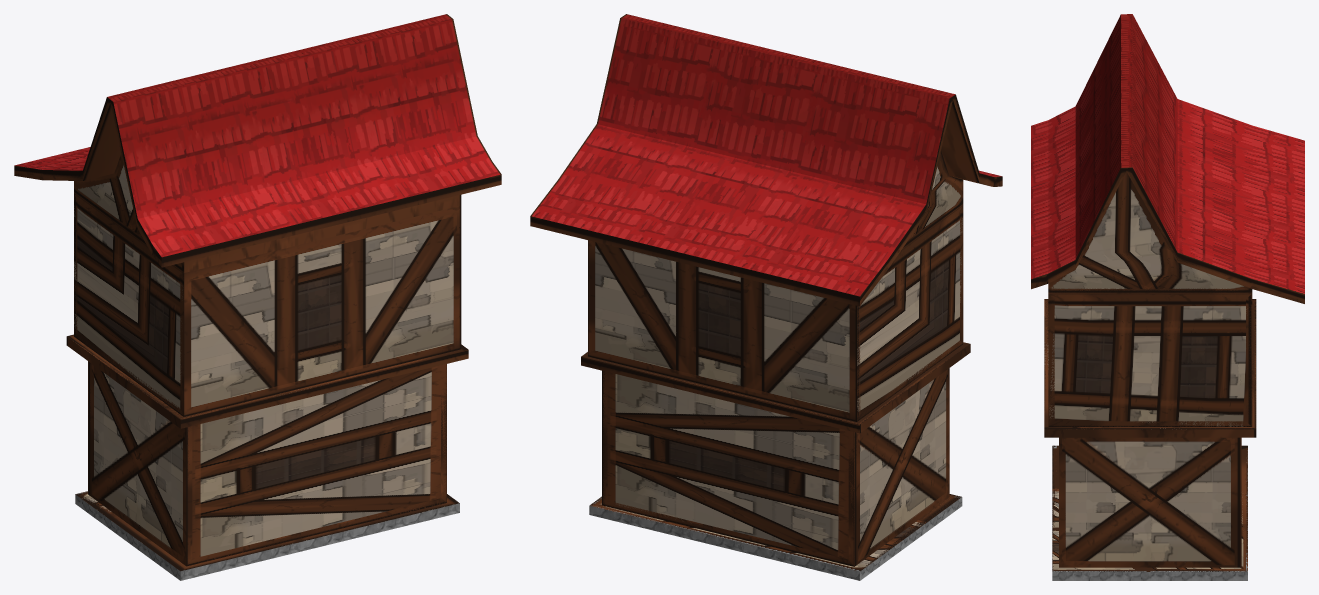
The model's file is House Base4_C.fbx.
3 views of the same model, side by side, from view 1: azimuth 30°, elevation 25°; view 2: azimuth 150°, elevation 25°; view 3: azimuth 270°, elevation 25° (orthographic). The views are drawn at different scales.
Parts seen in each view (by area): view 1: House Base 4c_col, House Base 4c; view 2: House Base 4c, House Base 4c_col; view 3: House Base 4c_col, House Base 4c.
Part boxes in pixels (x1,y1,x2,y2): House Base 4c_col: [73, 155, 465, 565]; House Base 4c: [14, 14, 501, 580]; House Base 4c: [530, 14, 1002, 580]; House Base 4c_col: [581, 155, 969, 571]; House Base 4c_col: [1044, 172, 1256, 571]; House Base 4c: [1031, 14, 1304, 580].
Size of the model in its own units: 1047 by 1353 by 787.
